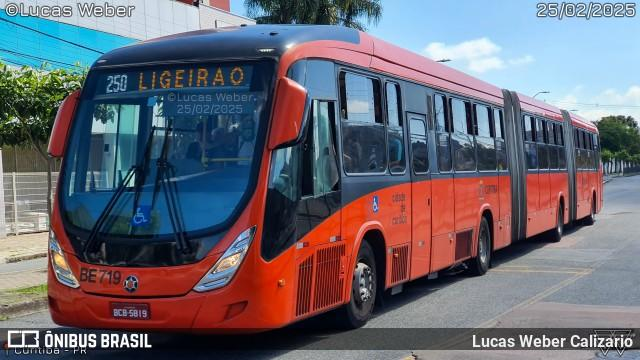LIGEIRAO: (133, 61, 255, 96)
